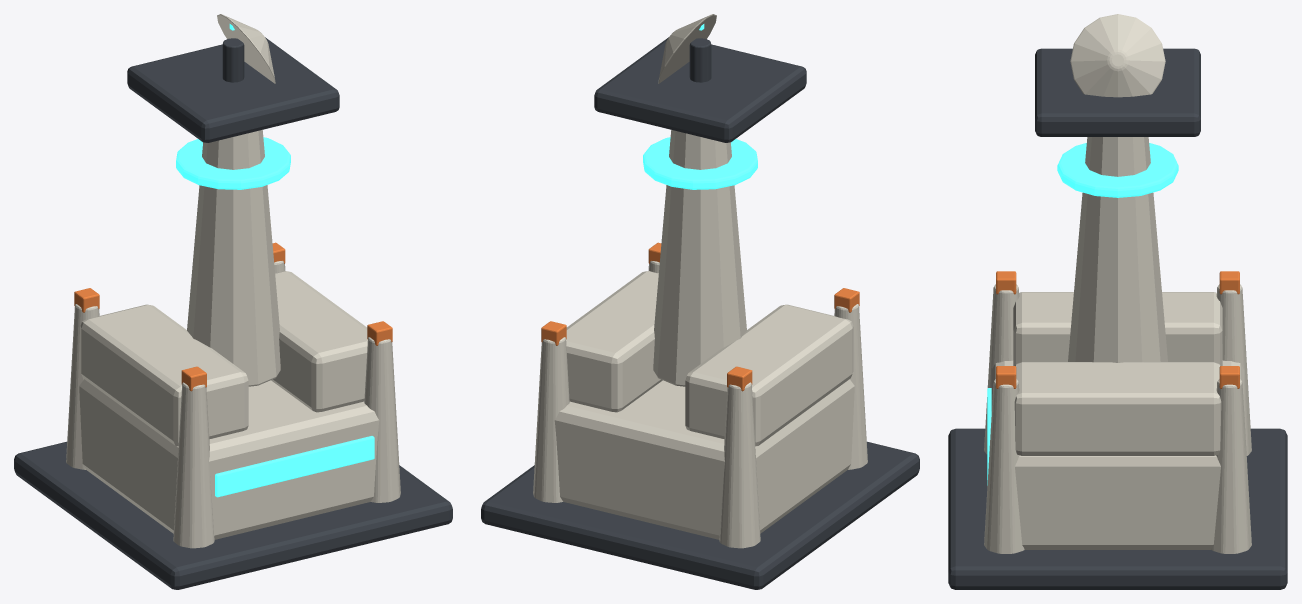
File: human_hq_t3.glb
3 views of the same model, side by side, from view 1: azimuth 30°, elevation 25°; view 2: azimuth 150°, elevation 25°; view 3: azimuth 270°, elevation 25° (orthographic). The views are drawn at different scales.
Parts seen in each view (by area): view 1: command_hall, foundation, command_spire, operations_wing, crown, operations_wing.001, support_pylon, support_pylon.001, ops_band, part_core, support_pylon.002, relay_dish (+1 smaller); view 2: command_hall, foundation, command_spire, operations_wing, crown, operations_wing.001, support_pylon.002, support_pylon.003, part_core, support_pylon, relay_dish, orbital_relay; view 3: foundation, operations_wing.001, command_hall, command_spire, crown, operations_wing, relay_dish, support_pylon.001, support_pylon.003, part_core, support_pylon.002, support_pylon.
Part boxes in pixels (bbox=[...]): command_hall: bbox=[79, 379, 379, 539]; foundation: bbox=[14, 441, 452, 589]; command_spire: bbox=[187, 130, 280, 386]; operations_wing: bbox=[80, 304, 248, 446]; crown: bbox=[127, 37, 339, 142]; operations_wing.001: bbox=[271, 271, 367, 412]; support_pylon: bbox=[173, 382, 214, 548]; support_pylon.001: bbox=[364, 337, 400, 502]; ops_band: bbox=[215, 436, 374, 497]; part_core: bbox=[176, 137, 290, 189]; support_pylon.002: bbox=[66, 304, 99, 469]; relay_dish: bbox=[217, 14, 275, 83]; command_hall: bbox=[554, 379, 854, 539]; foundation: bbox=[481, 441, 919, 589]; command_spire: bbox=[653, 130, 746, 386]; operations_wing: bbox=[685, 304, 853, 446]; crown: bbox=[594, 37, 806, 142]; operations_wing.001: bbox=[566, 271, 662, 412]; support_pylon.002: bbox=[719, 382, 760, 548]; support_pylon.003: bbox=[533, 337, 569, 502]; part_core: bbox=[643, 137, 757, 189]; support_pylon: bbox=[834, 304, 867, 469]; relay_dish: bbox=[658, 14, 716, 83]; orbital_relay: bbox=[689, 38, 711, 82]; foundation: bbox=[948, 428, 1287, 589]; operations_wing.001: bbox=[1014, 362, 1221, 455]; command_hall: bbox=[991, 360, 1244, 549]; command_spire: bbox=[1068, 137, 1167, 362]; crown: bbox=[1035, 48, 1200, 136]; operations_wing: bbox=[1013, 292, 1222, 365]; relay_dish: bbox=[1070, 14, 1165, 97]; support_pylon.001: bbox=[984, 379, 1024, 553]; support_pylon.003: bbox=[1211, 379, 1251, 553]; part_core: bbox=[1057, 143, 1178, 197]; support_pylon.002: bbox=[1216, 284, 1251, 455]; support_pylon: bbox=[984, 284, 1019, 454].
Bounding box in the file's own units: 4.7 × 7.71 × 4.7.
